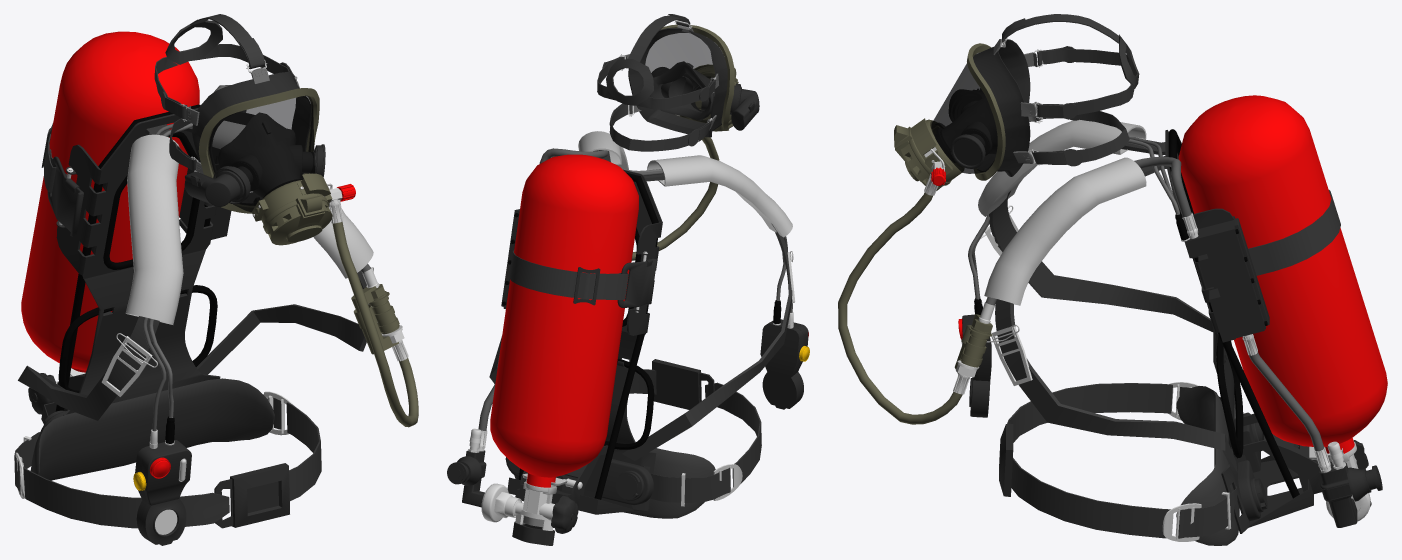
3 renders of one model, left to right at view 1: azimuth 30°, elevation 25°; view 2: azimuth 150°, elevation 25°; view 3: azimuth 270°, elevation 25°, orthographic. The views are drawn at different scales.
Parts seen in each view (by area): view 1: Breather; view 2: Breather; view 3: Breather.
Part boxes in pixels (box(x1,y1,x2,y2)): Breather: box(14, 14, 418, 545); Breather: box(447, 14, 809, 545); Breather: box(838, 14, 1387, 545).
Bounding box in the file's own units: 67.32 × 112 × 113.
